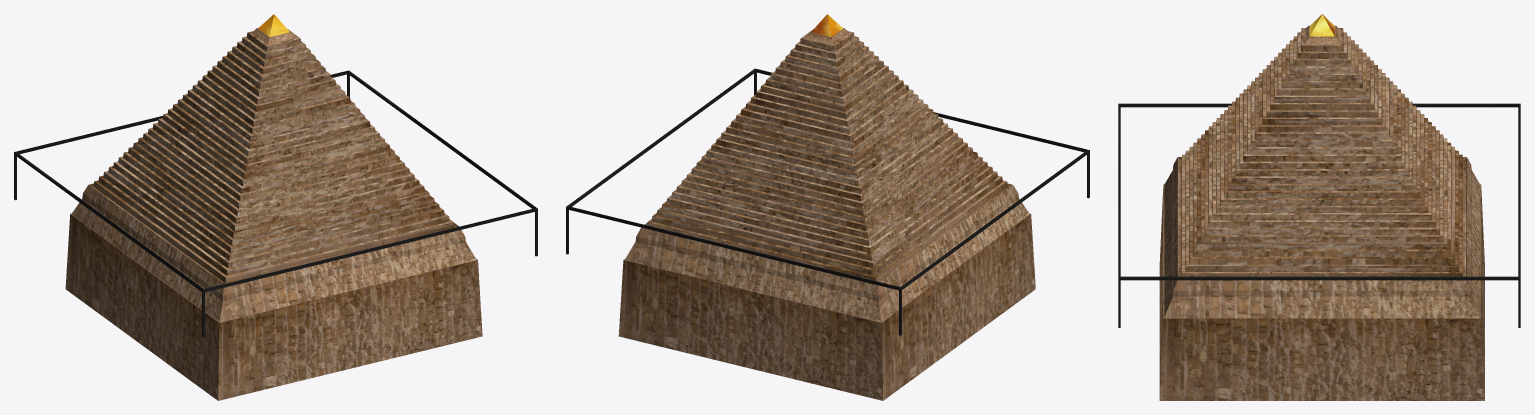
The model's file is egyptian_pyramid_with_barriere.fbx.
The picture shows the model from 3 angles, left to right: view 1: azimuth 30°, elevation 25°; view 2: azimuth 150°, elevation 25°; view 3: azimuth 270°, elevation 25°; orthographic projection. The views are drawn at different scales.
Parts seen in each view (by area): view 1: Pyramid, Cube.007, Cube.008; view 2: Pyramid, Cube.007, Cube.008; view 3: Pyramid, Cube.007, Cube.008.
Boxes of the visible parts, x1,y1,x2,y2 form: Pyramid: (65,14,482,400); Cube.007: (14,71,537,337); Cube.008: (347,70,536,208); Pyramid: (618,14,1035,400); Cube.007: (568,68,1089,335); Cube.008: (566,69,755,254); Pyramid: (1159,14,1484,400); Cube.007: (1118,103,1520,327); Cube.008: (1120,276,1520,327).
Bounding box in the file's own units: 835 × 712 × 816.
4 materials, 2 textured.
